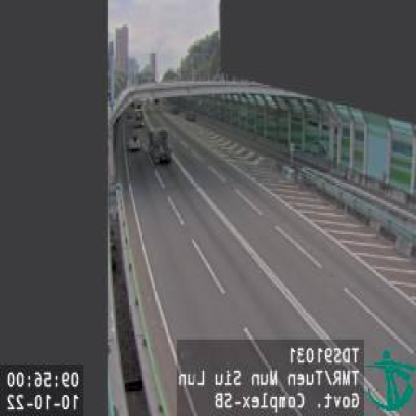Car: (130, 133, 142, 149)
Truck: (148, 125, 171, 168)
